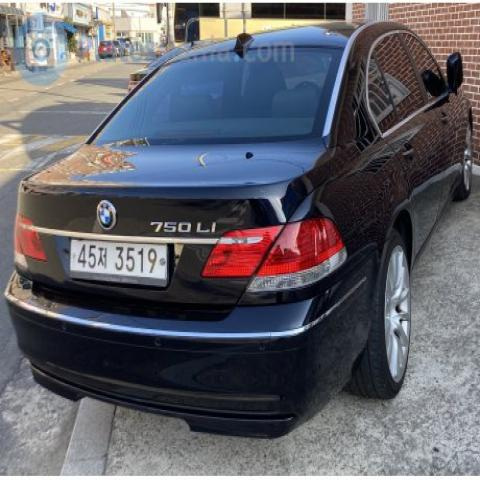LP: (64, 231, 173, 291)
